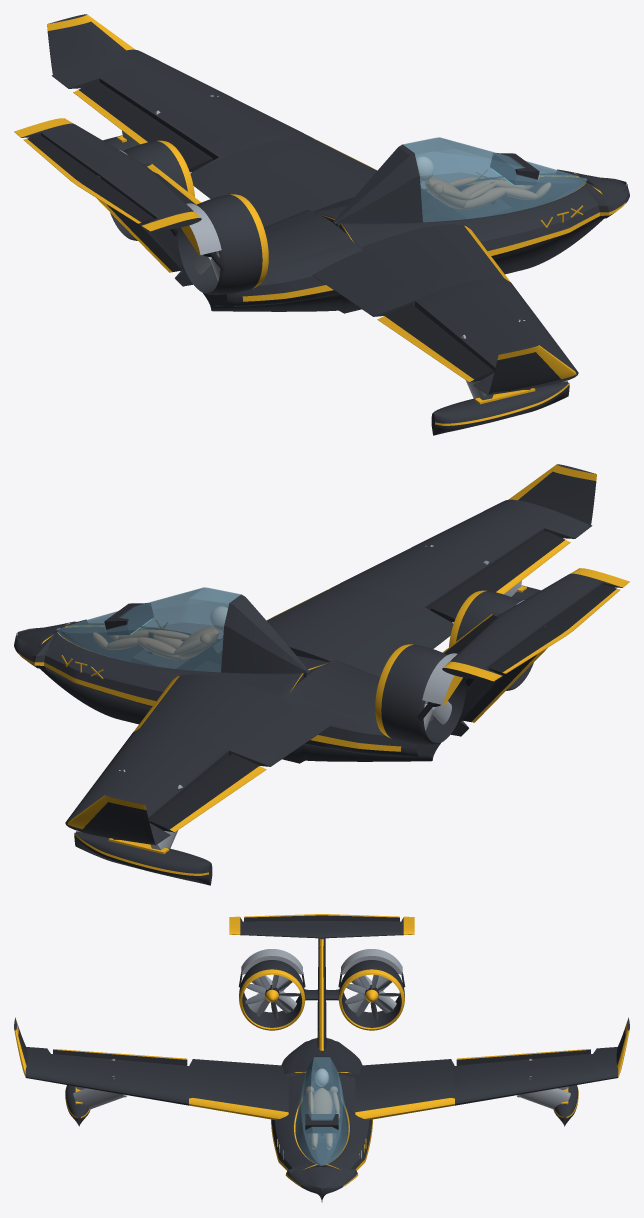
File: B_faceted__reclined_50.glb
3 renders of one model, top to bottom at view 1: azimuth 30°, elevation 25°; view 2: azimuth 150°, elevation 25°; view 3: azimuth 270°, elevation 25°, orthographic. The views are drawn at different scales.
Visible parts, largest first — view 1: Ricochet_Wing_Port, Ricochet_ConceptA_Hull_Cabin, Ricochet_Wing_Stbd, Ricochet_Canopy_Glass, Ricochet_Tail_Pylon_T_Tail, Ricochet_Duct_Stbd, Ricochet_Aileron_Port, Ricochet_Aileron_Stbd, Ricochet_Sponson_Stbd, Ricochet_Winglet_Port, Study_Pilot_Manikin, Ricochet_Winglet_Stbd (+5 smaller); view 2: Ricochet_Wing_Stbd, Ricochet_ConceptA_Hull_Cabin, Ricochet_Wing_Port, Ricochet_Canopy_Glass, Ricochet_Tail_Pylon_T_Tail, Ricochet_Duct_Port, Ricochet_Aileron_Stbd, Ricochet_Aileron_Port, Ricochet_Sponson_Port, Ricochet_Winglet_Stbd, Study_Pilot_Manikin, Ricochet_Winglet_Port (+5 smaller); view 3: Ricochet_Wing_Port, Ricochet_Wing_Stbd, Ricochet_ConceptA_Hull_Cabin, Ricochet_Tail_Pylon_T_Tail, Ricochet_Canopy_Glass, Ricochet_Duct_Port, Ricochet_Duct_Stbd, Study_Pilot_Manikin, Ricochet_Elevator, Ricochet_Aileron_Port, Ricochet_Aileron_Stbd, Ricochet_Fan_Rotor_Port (+8 smaller).
Boxes of the visible parts, box(x1,y1,x2,y2) form: Ricochet_Wing_Port: box(51, 49, 377, 227); Ricochet_ConceptA_Hull_Cabin: box(203, 169, 629, 313); Ricochet_Wing_Stbd: box(312, 224, 578, 395); Ricochet_Canopy_Glass: box(332, 137, 587, 223); Ricochet_Tail_Pylon_T_Tail: box(14, 118, 201, 286); Ricochet_Duct_Stbd: box(178, 194, 268, 294); Ricochet_Aileron_Port: box(73, 81, 213, 172); Ricochet_Aileron_Stbd: box(377, 303, 494, 382); Ricochet_Sponson_Stbd: box(431, 381, 569, 435); Ricochet_Winglet_Port: box(47, 14, 135, 75); Study_Pilot_Manikin: box(416, 156, 550, 209); Ricochet_Winglet_Stbd: box(488, 345, 576, 394); Ricochet_Wing_Stbd: box(266, 499, 592, 677); Ricochet_ConceptA_Hull_Cabin: box(14, 619, 440, 763); Ricochet_Wing_Port: box(65, 674, 331, 845); Ricochet_Canopy_Glass: box(56, 587, 311, 673); Ricochet_Tail_Pylon_T_Tail: box(442, 568, 629, 736); Ricochet_Duct_Port: box(375, 644, 465, 744); Ricochet_Aileron_Stbd: box(430, 531, 570, 622); Ricochet_Aileron_Port: box(149, 753, 266, 832); Ricochet_Sponson_Port: box(74, 831, 212, 885); Ricochet_Winglet_Stbd: box(508, 464, 596, 525); Study_Pilot_Manikin: box(93, 606, 227, 659); Ricochet_Winglet_Port: box(67, 795, 155, 844); Ricochet_Wing_Port: box(355, 1047, 618, 1119); Ricochet_Wing_Stbd: box(25, 1047, 288, 1119); Ricochet_ConceptA_Hull_Cabin: box(271, 1038, 372, 1202); Ricochet_Tail_Pylon_T_Tail: box(229, 916, 414, 1050); Ricochet_Canopy_Glass: box(295, 1056, 348, 1165); Ricochet_Duct_Port: box(338, 960, 404, 1030); Ricochet_Duct_Stbd: box(239, 960, 305, 1030); Study_Pilot_Manikin: box(306, 1069, 339, 1149); Ricochet_Elevator: box(244, 914, 399, 921); Ricochet_Aileron_Port: box(456, 1049, 590, 1065); Ricochet_Aileron_Stbd: box(53, 1049, 187, 1065); Ricochet_Fan_Rotor_Port: box(345, 975, 399, 1019).
Bounding box in the file's own units: 6.78 × 2.34 × 9.64.
